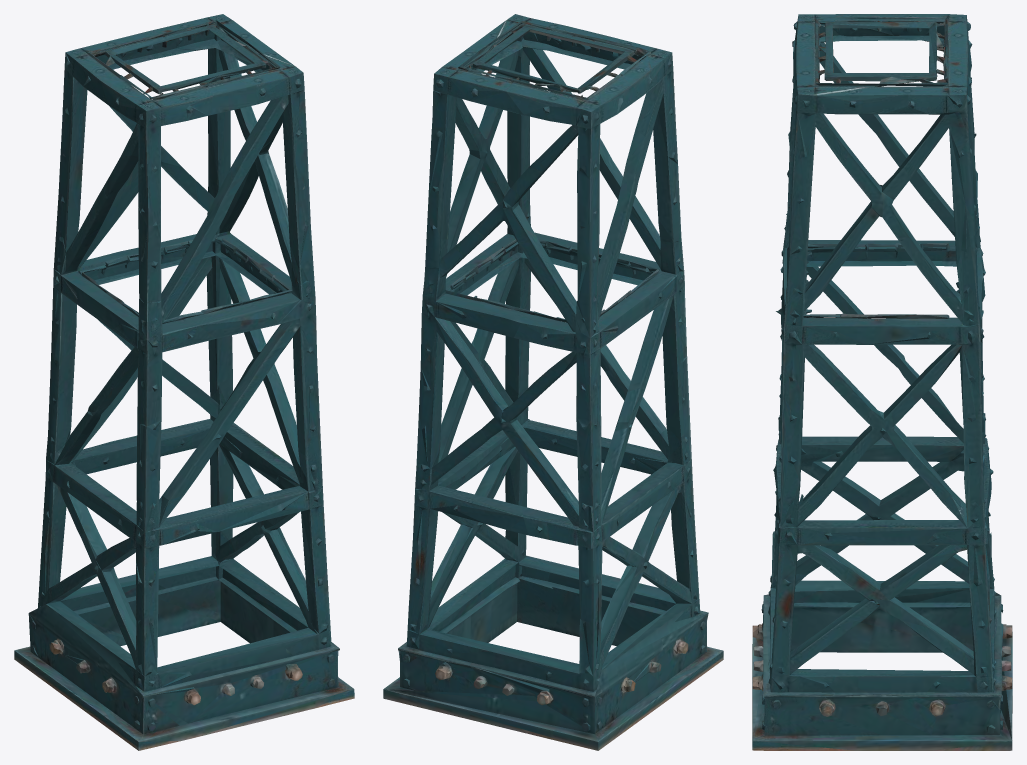
Rendered from truss.glb.
3 renders of one model, left to right at view 1: azimuth 30°, elevation 25°; view 2: azimuth 150°, elevation 25°; view 3: azimuth 270°, elevation 25°, orthographic. The views are drawn at different scales.
Visible parts, largest first — view 1: Mesh_0; view 2: Mesh_0; view 3: Mesh_0.
Part boxes in pixels (x1,y1,x2,y2): Mesh_0: [14, 14, 354, 750]; Mesh_0: [383, 14, 723, 750]; Mesh_0: [752, 14, 1012, 750].
Bounding box in the file's own units: 0.6914 × 1.9 × 0.6936.
Materials: 1 (1 with a texture image).
